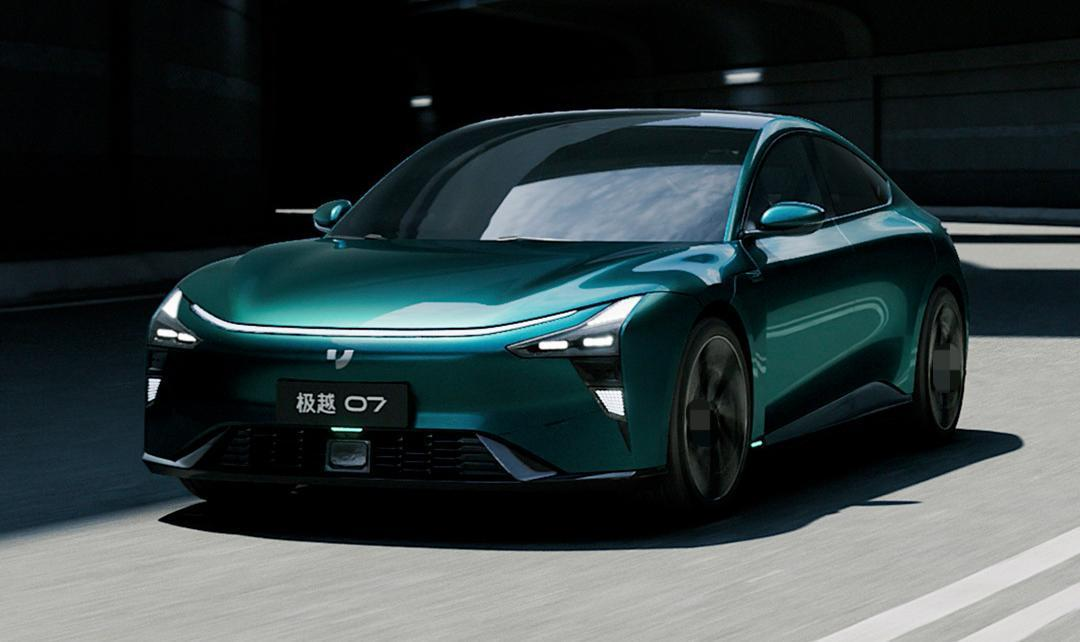JIYUE: (325, 348, 354, 370)
